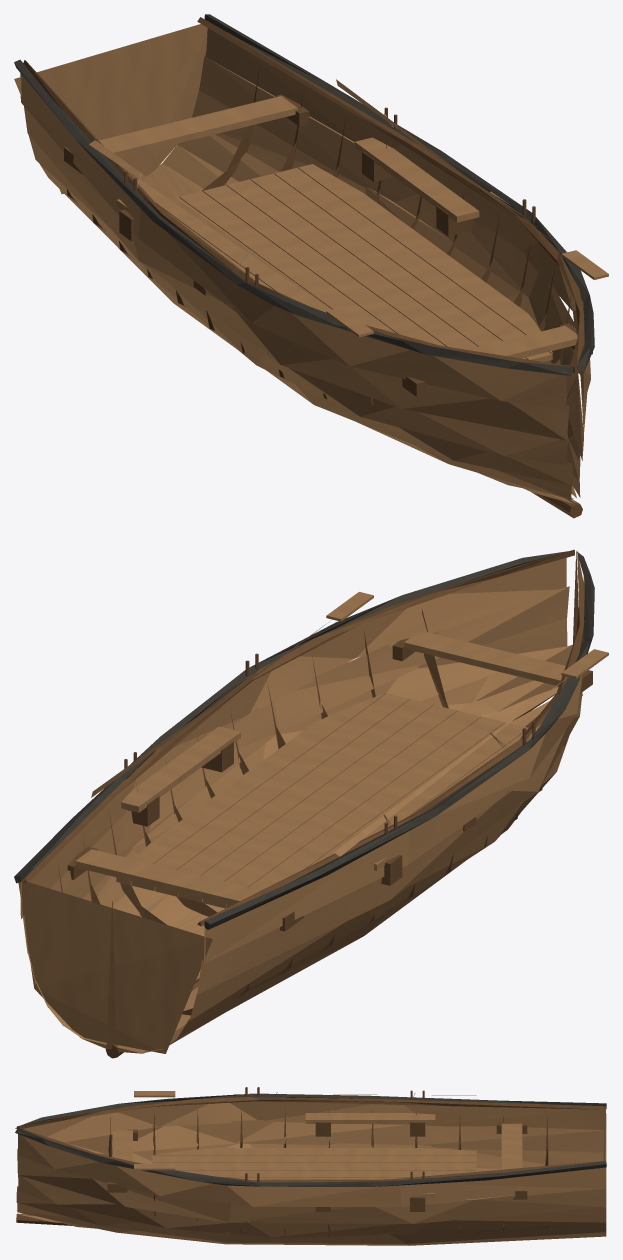
The model's file is ship_lod2.glb.
3 renders of one model, top to bottom at view 1: azimuth 30°, elevation 25°; view 2: azimuth 150°, elevation 25°; view 3: azimuth 270°, elevation 25°, orthographic. The views are drawn at different scales.
Parts seen in each view (by area): view 1: lod2_strake_starboard_07, lod2_strake_starboard_06, lod2_transom, lod2_strake_port_06, lod2_strake_starboard_05, lod2_strake_port_07, lod2_strake_port_05, lod2_gunwale_1_001, lod2_sole_board_07, lod2_sole_board_06, lod2_sole_board_05, lod2_sole_board_08 (+17 smaller); view 2: lod2_transom, lod2_strake_port_07, lod2_strake_port_06, lod2_strake_starboard_07, lod2_strake_starboard_06, lod2_strake_port_05, lod2_sole_board_07, lod2_sole_board_04, lod2_sole_board_05, lod2_sole_board_06, lod2_strake_starboard_05, lod2_gunwale_1_001 (+16 smaller); view 3: lod2_strake_port_07, lod2_strake_port_06, lod2_strake_starboard_07, lod2_strake_starboard_06, lod2_strake_port_05, lod2_strake_port_04, lod2_gunwale_1, lod2_strake_starboard_05, lod2_inwale_1_001, lod2_sole_board_01, lod2_sole_board_02, lod2_sole_board_00 (+14 smaller).
Part boxes in pixels (x1,y1,x2,y2): lod2_strake_starboard_07: (20,73,566,408); lod2_strake_starboard_06: (24,106,569,440); lod2_transom: (14,24,207,193); lod2_strake_port_06: (199,56,587,435); lod2_strake_starboard_05: (28,134,567,465); lod2_strake_port_07: (205,28,590,404); lod2_strake_port_05: (192,90,583,460); lod2_gunwale_1_001: (14,59,573,375); lod2_sole_board_07: (274,168,552,361); lod2_sole_board_06: (250,173,526,359); lod2_sole_board_05: (226,179,477,349); lod2_sole_board_08: (298,164,553,359); lod2_transom: (18,880,212,1053); lod2_strake_port_07: (20,558,566,918); lod2_strake_port_06: (23,586,569,953); lod2_strake_starboard_07: (203,576,584,963); lod2_strake_starboard_06: (197,692,582,994); lod2_strake_port_05: (27,618,567,983); lod2_sole_board_07: (131,693,409,890); lod2_sole_board_04: (203,711,480,908); lod2_sole_board_05: (179,705,457,902); lod2_sole_board_06: (155,699,433,896); lod2_strake_starboard_05: (189,736,569,1020); lod2_gunwale_1_001: (204,551,594,929); lod2_strake_port_07: (18,1131,606,1206); lod2_strake_port_06: (17,1152,606,1223); lod2_strake_starboard_07: (23,1101,606,1142); lod2_strake_starboard_06: (17,1120,606,1154); lod2_strake_port_05: (18,1175,606,1237); lod2_strake_port_04: (16,1188,606,1243); lod2_gunwale_1: (15,1128,606,1186); lod2_strake_starboard_05: (100,1143,606,1170); lod2_inwale_1_001: (17,1097,606,1128); lod2_sole_board_01: (152,1155,476,1162); lod2_sole_board_02: (152,1163,476,1170); lod2_sole_board_00: (152,1148,476,1155).
Size of the model in its own units: 1.97 by 1.1 by 5.45.
Materials: 4 (4 with a texture image).
